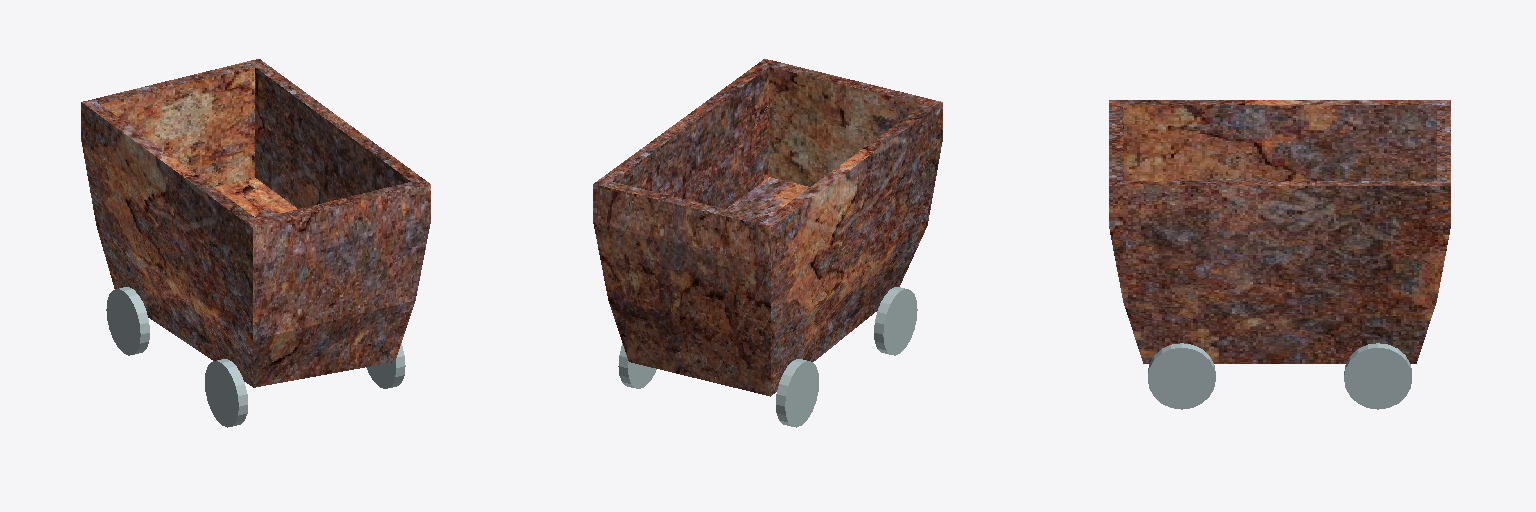
3 renders of one model, left to right at view 1: azimuth 30°, elevation 25°; view 2: azimuth 150°, elevation 25°; view 3: azimuth 270°, elevation 25°, orthographic.
Visible parts, largest first — view 1: pCube3, textureEditorIsolateSelectSet pCube3, pCylinder1, pCylinder3, pCylinder4; view 2: pCube3, textureEditorIsolateSelectSet pCube3, pCylinder3, pCylinder1, pCylinder2; view 3: pCube3, textureEditorIsolateSelectSet pCube3, pCylinder2, pCylinder4.
Part boxes in pixels (x1,y1,x2,y2): pCube3: (81,67,430,387); textureEditorIsolateSelectSet pCube3: (83,59,429,183); pCylinder1: (106,287,149,355); pCylinder3: (205,359,247,427); pCylinder4: (366,343,405,388); pCube3: (593,59,942,396); textureEditorIsolateSelectSet pCube3: (594,59,770,226); pCylinder3: (874,287,917,355); pCylinder1: (776,359,818,427); pCylinder2: (618,343,656,388); pCube3: (1109,100,1450,363); textureEditorIsolateSelectSet pCube3: (1109,100,1450,224); pCylinder2: (1344,343,1411,409); pCylinder4: (1148,343,1215,409).
Bounding box in the file's own units: 3 × 3.64 × 5.
Materials: 2 (1 with a texture image).